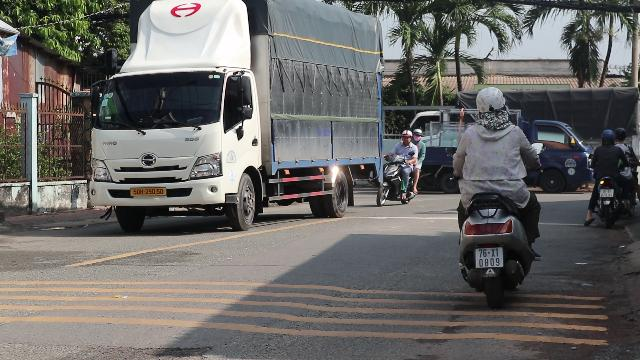helmet: (474, 86, 511, 126), (600, 128, 614, 144)
licenseplate: (476, 248, 502, 268), (600, 189, 612, 197)
motorcyclist: (448, 81, 544, 302), (584, 127, 628, 231)
